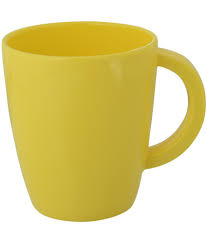cup: (1, 20, 206, 221)
